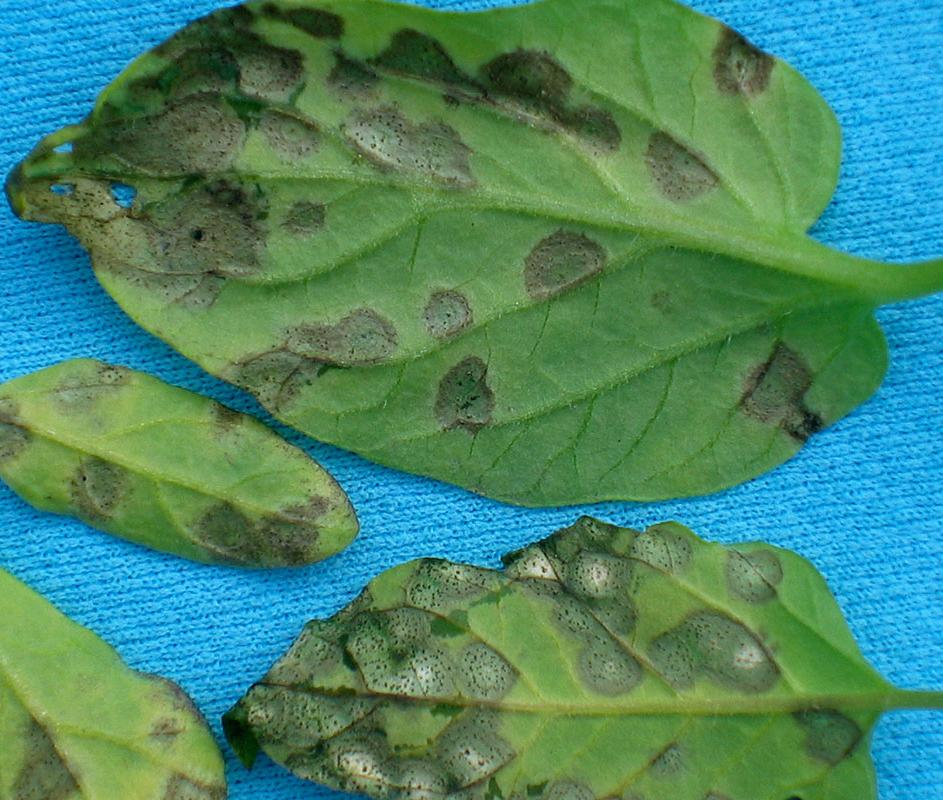Tomato Septoria leaf spot: (0, 5, 920, 514), (198, 515, 943, 800), (0, 353, 372, 576), (0, 517, 219, 800)
